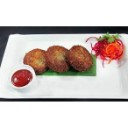cutlet: (24, 49, 50, 73), (69, 46, 93, 71), (47, 45, 71, 70)
